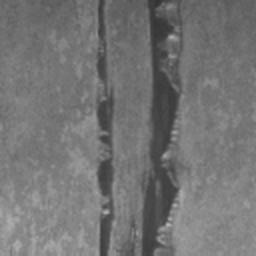Slag inclusion: (124, 0, 186, 256), (93, 0, 116, 253)
